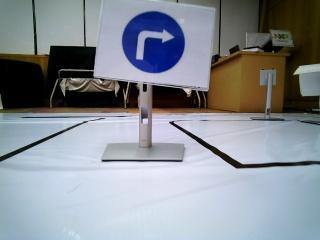right: (103, 2, 208, 88)
